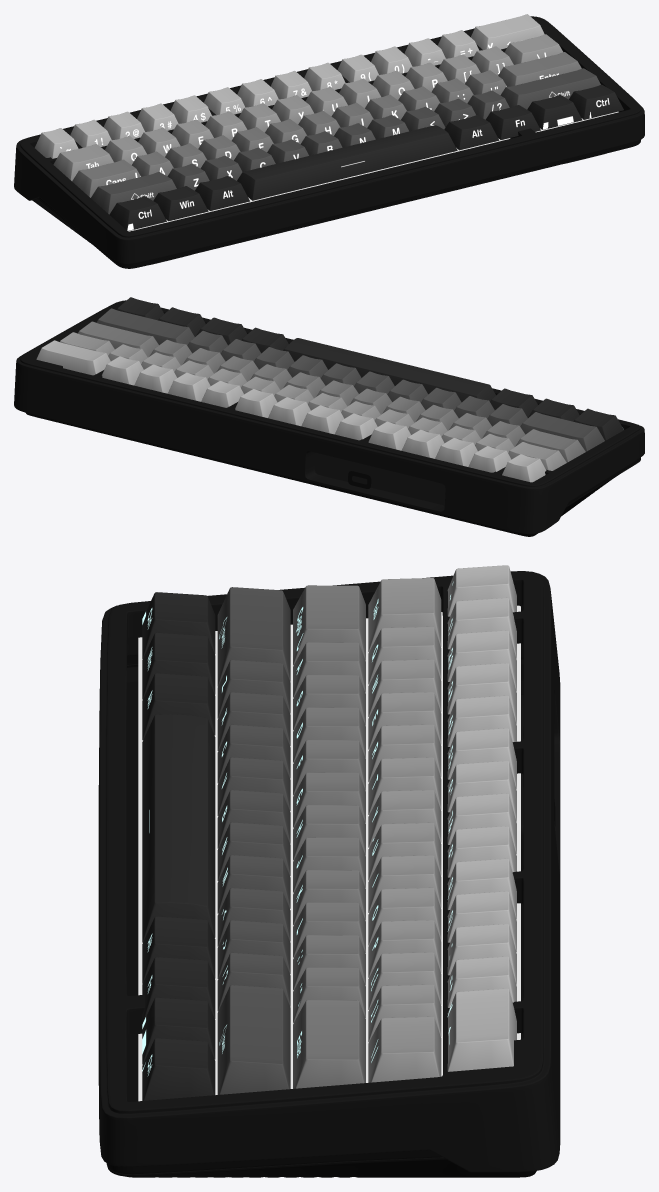
Rendered from keyboard-60.glb.
3 views of the same model, one above another, from view 1: azimuth 30°, elevation 25°; view 2: azimuth 150°, elevation 25°; view 3: azimuth 270°, elevation 25° (orthographic). The views are drawn at different scales.
Visible parts, largest first — view 1: Layer_Keycaps, Layer_Case, Layer_Plate; view 2: Layer_Keycaps, Layer_Case; view 3: Layer_Keycaps, Layer_Case, Layer_Plate.
Part boxes in pixels (box(x1,y1,x2,y2)): Layer_Keycaps: box(35, 14, 623, 230); Layer_Case: box(14, 16, 644, 268); Layer_Plate: box(128, 111, 618, 231); Layer_Keycaps: box(36, 297, 623, 482); Layer_Case: box(14, 300, 644, 536); Layer_Keycaps: box(142, 565, 516, 1100); Layer_Case: box(98, 571, 560, 1177); Layer_Plate: box(138, 605, 520, 1101).
Size of the model in its own units: 0.3034 by 0.0404 by 0.1145.
Materials: 14 (1 with a texture image).
